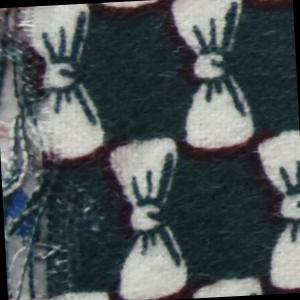Damage: (1, 3, 110, 300)
